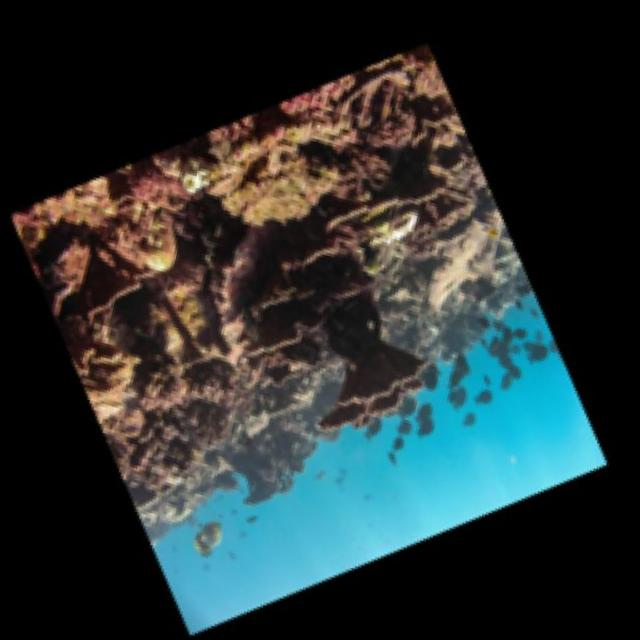Dead Coral: (213, 179, 496, 470), (226, 39, 483, 312), (69, 132, 260, 339)
